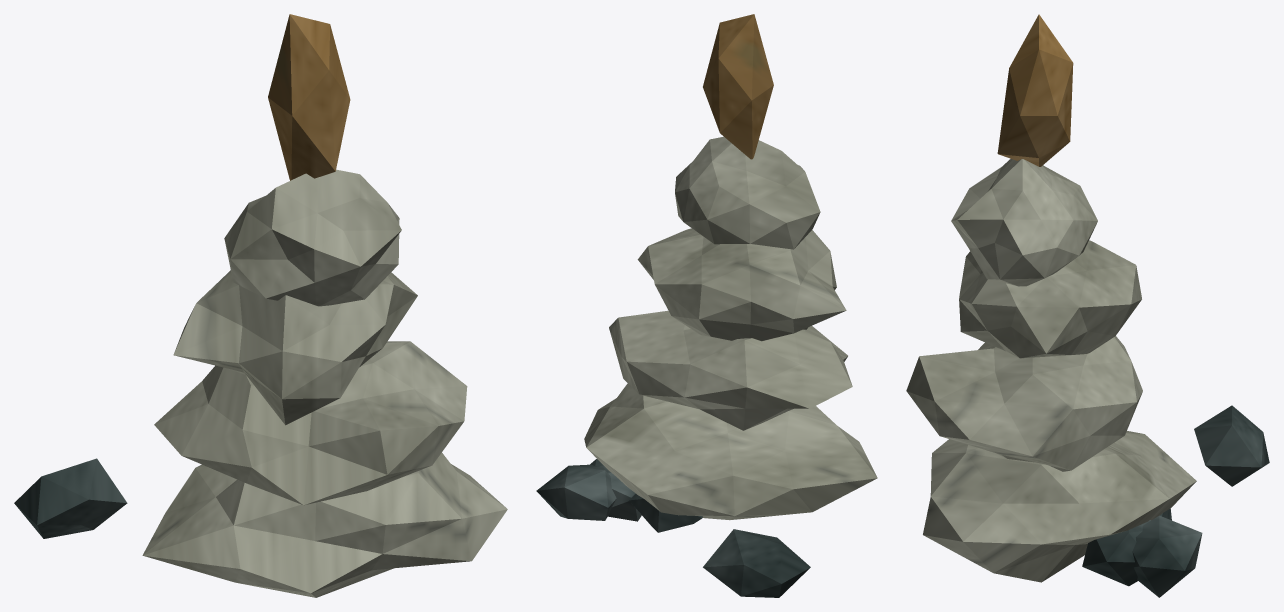
The model's file is 0612_cairn_12.glb.
3 renders of one model, left to right at view 1: azimuth 30°, elevation 25°; view 2: azimuth 150°, elevation 25°; view 3: azimuth 270°, elevation 25°, orthographic. The views are drawn at different scales.
Parts seen in each view (by area): view 1: stone_light, brass, stone_dark; view 2: stone_light, stone_dark, brass; view 3: stone_light, stone_dark, brass.
Part boxes in pixels (<box>): stone_light: <box>142,169,507,597</box>; brass: <box>268,14,350,180</box>; stone_dark: <box>14,458,127,538</box>; stone_light: <box>584,136,877,520</box>; stone_dark: <box>536,459,810,597</box>; brass: <box>703,14,773,159</box>; stone_light: <box>906,159,1196,582</box>; stone_dark: <box>1082,405,1269,597</box>; brass: <box>997,14,1073,166</box>.
Size of the model in its own units: 1.17 by 1.89 by 1.21.
3 materials, 3 textured.
